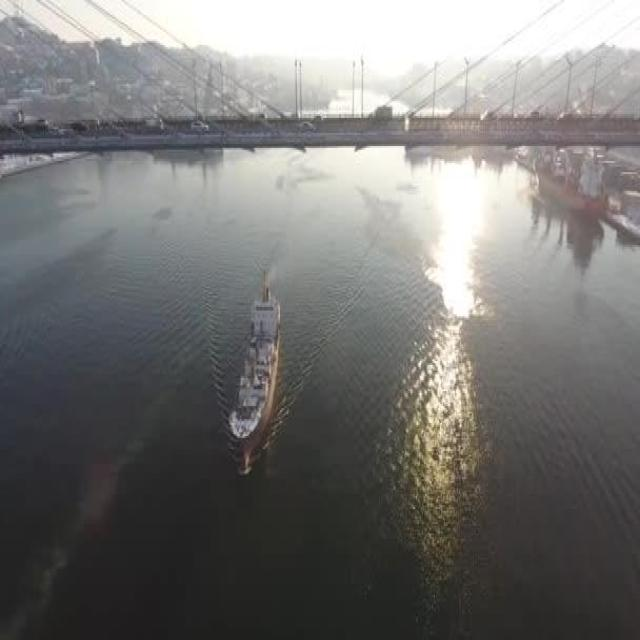other: (398, 152, 509, 331), (422, 349, 472, 509)
